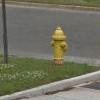Hydrant: (47, 21, 70, 76)
